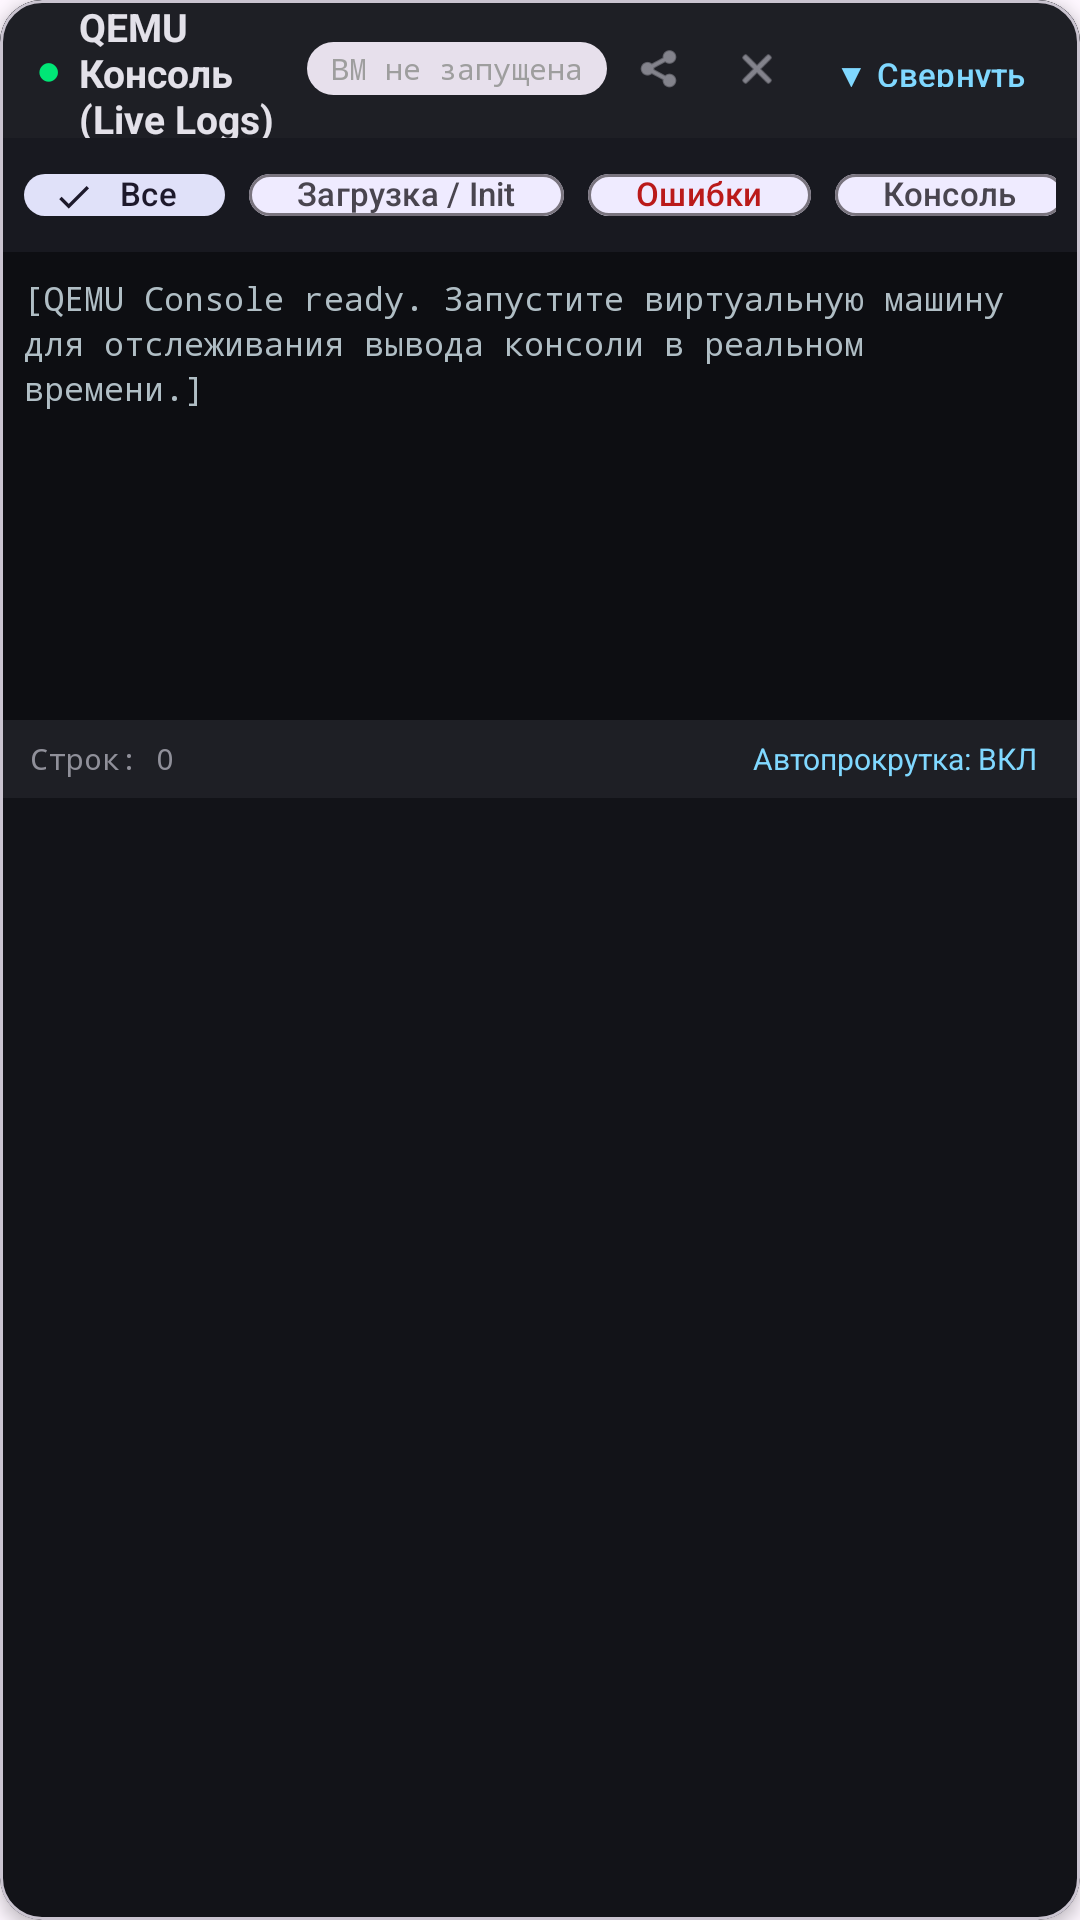

Icons on this 1080 × 1920 Android screen, each with its box as (x1, y1, x2, y2):
close clear cancel: (742, 54, 772, 84)
share: (641, 50, 676, 87)
